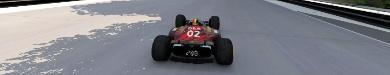Car: (150, 14, 233, 65)
